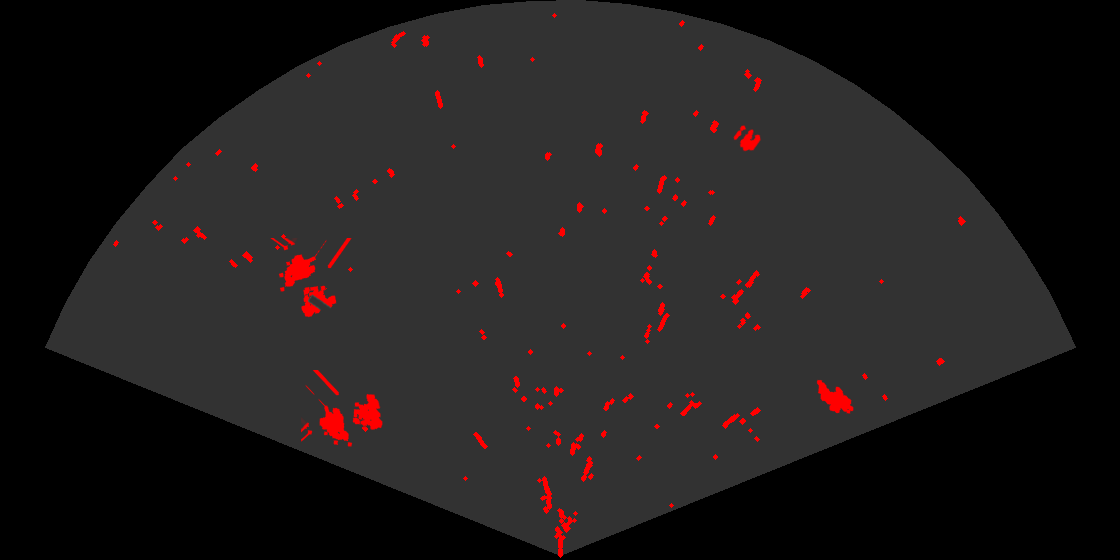AUV: (815, 378, 855, 415)
ball: (732, 124, 763, 153)
cage: (269, 238, 353, 319), (301, 370, 384, 448)
